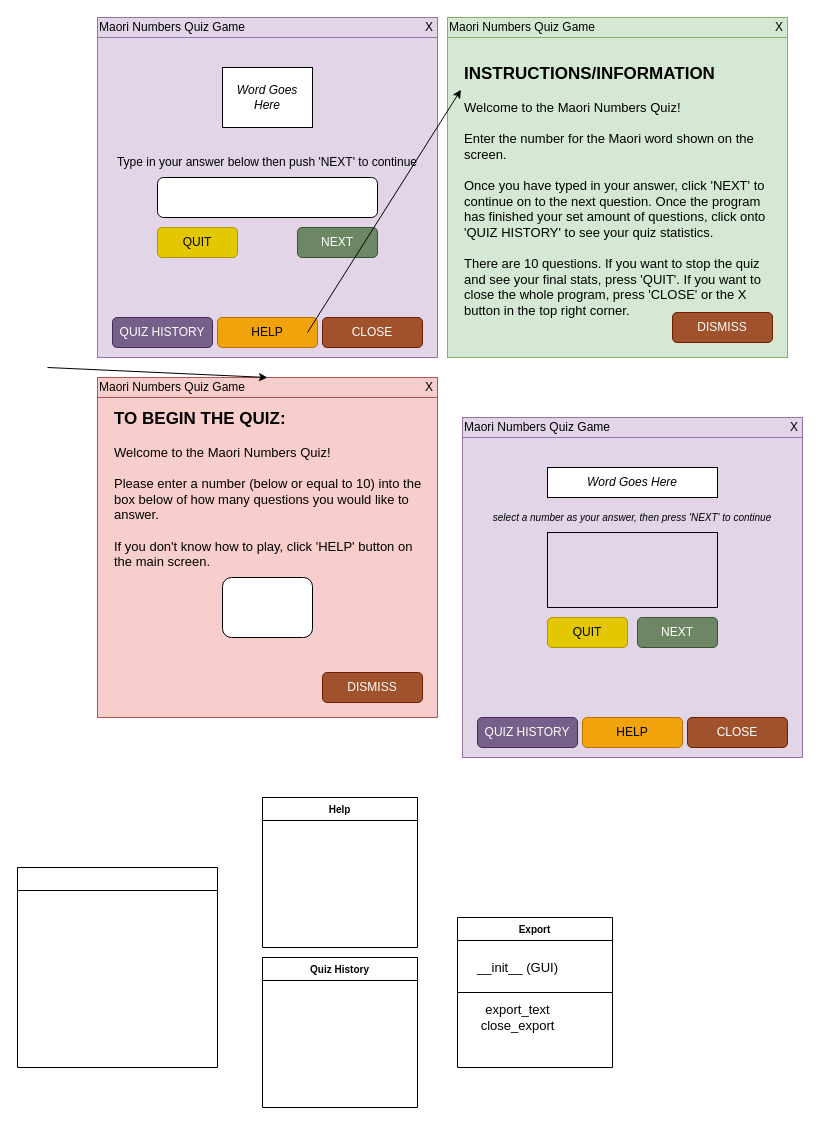
This 820x1125 diagram has some shape labels left out. The shapes that lost their labels are listed below. From the top down, each one's box as (x1, y1, x2, y2) in pixels, then its label:
(156, 176, 378, 218): type in number here
(546, 532, 718, 608): number #1 number #2 number #3 number #4
(222, 576, 312, 638): enter number here
(16, 866, 218, 1068): Quiz (main frame)
